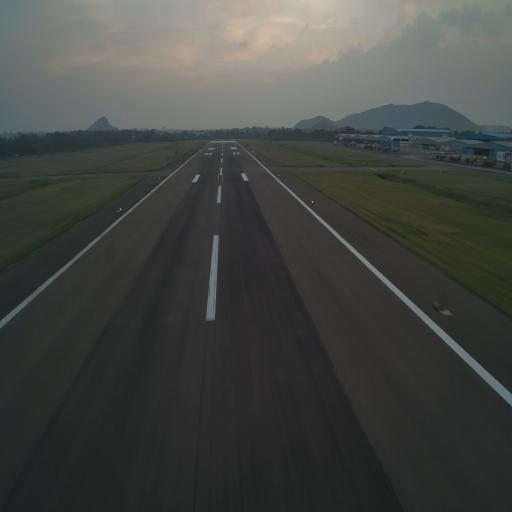off: (431, 296, 440, 316)
on: (118, 206, 124, 212), (310, 199, 315, 206)
